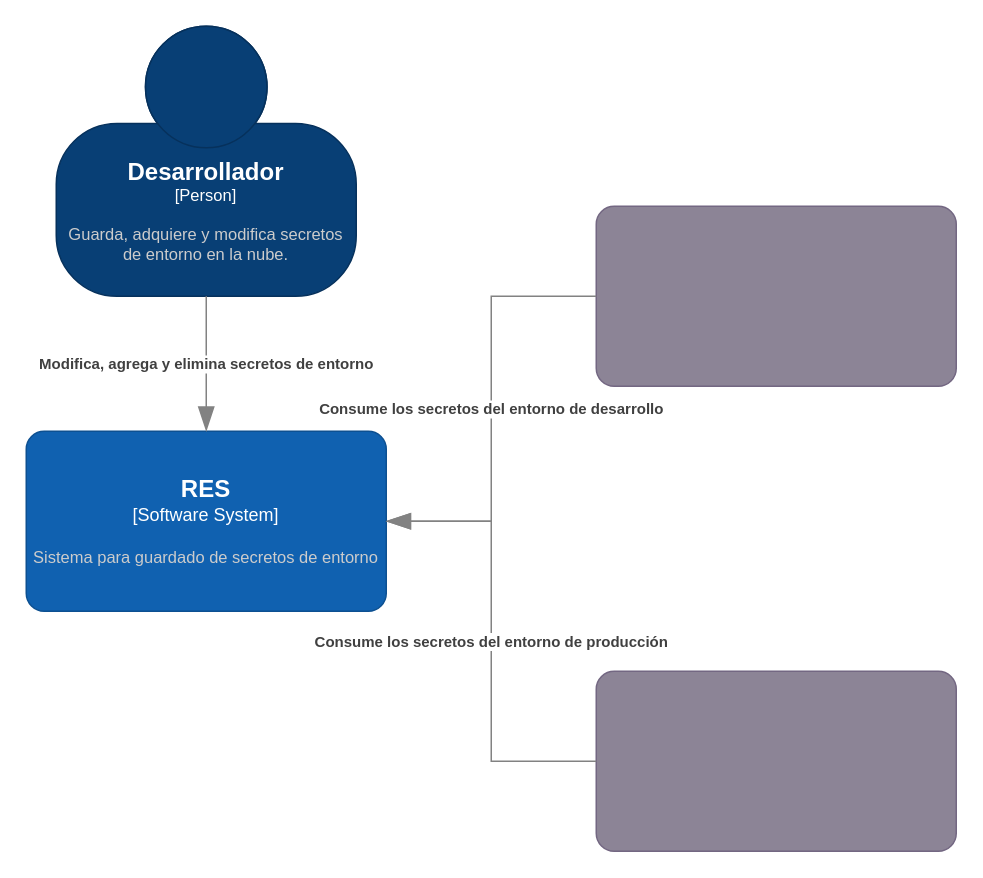
This 983x878 diagram has some shape labels left out. Each missing label, with the centre of its shape:
Aplicación (Dev) [Software System] Entorno de pruebas de la aplicación: the point at 775,295
Aplicación (Prod) [Software System] Entorno de producción de la aplicación: the point at 775,760
